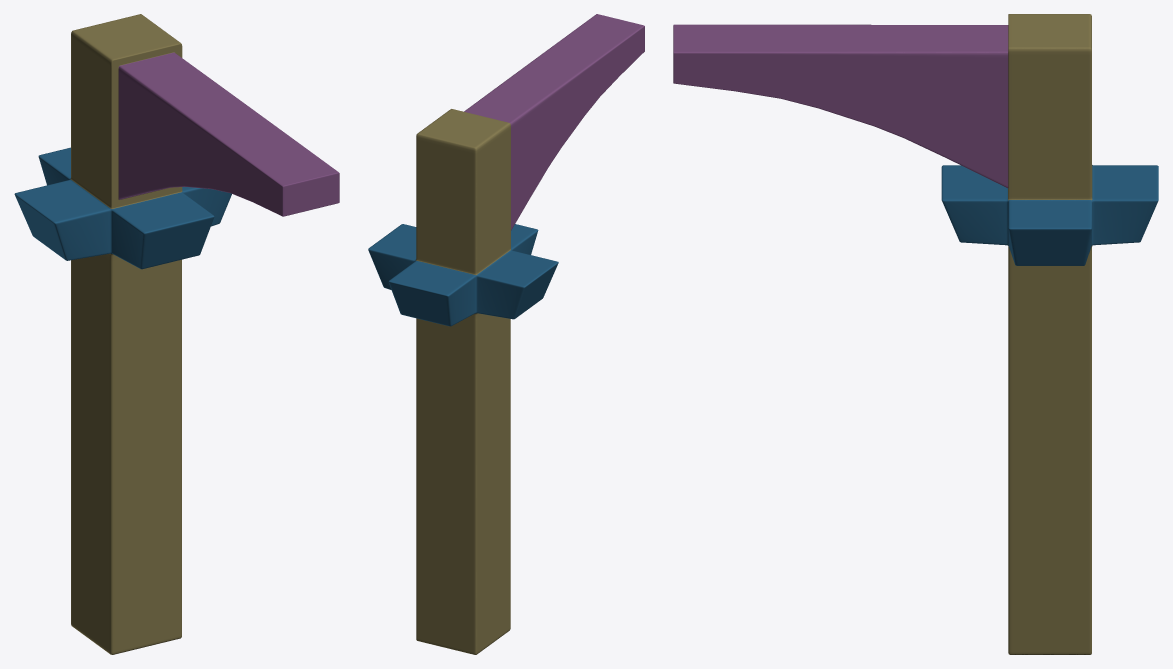
The model's file is CourtyardFoundation2Corner.fbx.
3 views of the same model, side by side, from view 1: azimuth 30°, elevation 25°; view 2: azimuth 150°, elevation 25°; view 3: azimuth 270°, elevation 25° (orthographic). The views are drawn at different scales.
Parts seen in each view (by area): view 1: CourtyardFoundation2Corner_HIgh (×3); view 2: CourtyardFoundation2Corner_HIgh (×3); view 3: CourtyardFoundation2Corner_HIgh (×3).
Part boxes in pixels (x1,y1,x2,y2): CourtyardFoundation2Corner_HIgh (×3): (14,14,339,654); CourtyardFoundation2Corner_HIgh (×3): (368,14,644,654); CourtyardFoundation2Corner_HIgh (×3): (673,14,1158,654).
Bounding box in the file's own units: 2.59 × 8 × 5.79.
